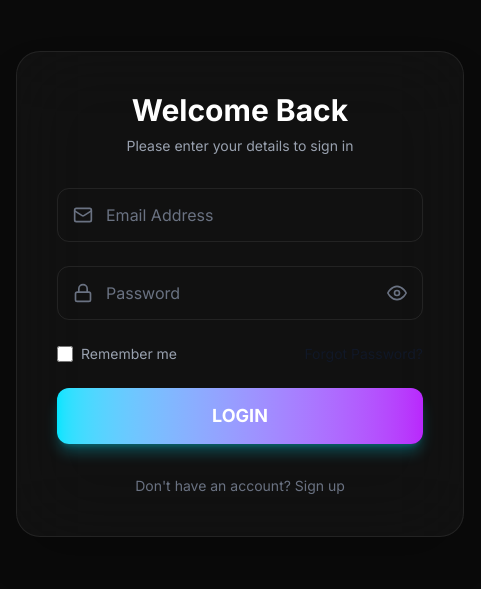
Test: LoginForm › shows error message on failed login
The image size is (481, 589).
In the field with placeholder "Email Address": (240, 215) [57, 188, 423, 242], type "wrong@example.com"
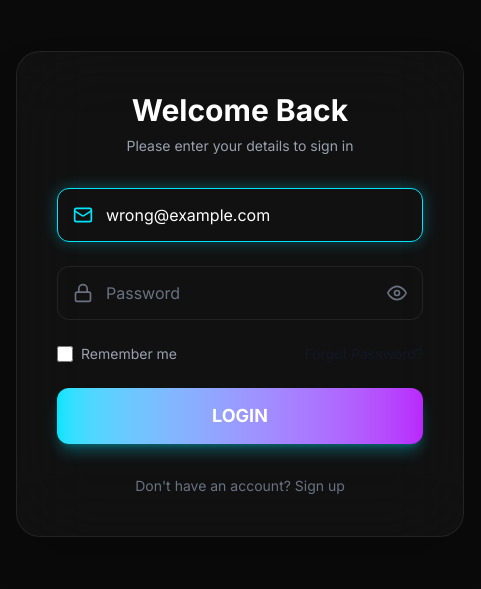
In the password field with placeholder "Password": (240, 293) [57, 266, 423, 320], type "wrongpassword"
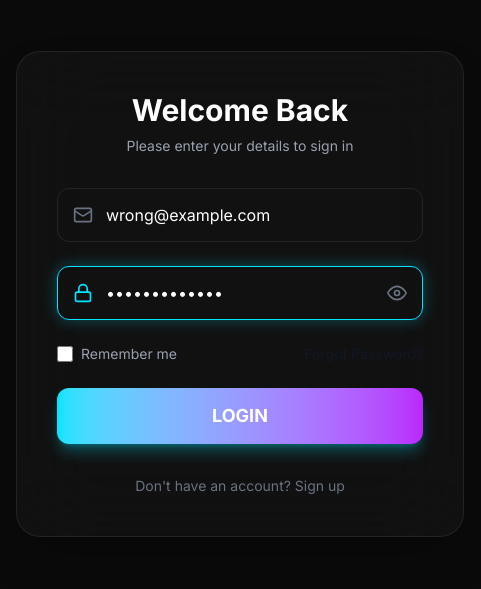
Click the button "LOGIN": (240, 416) [57, 388, 423, 444]
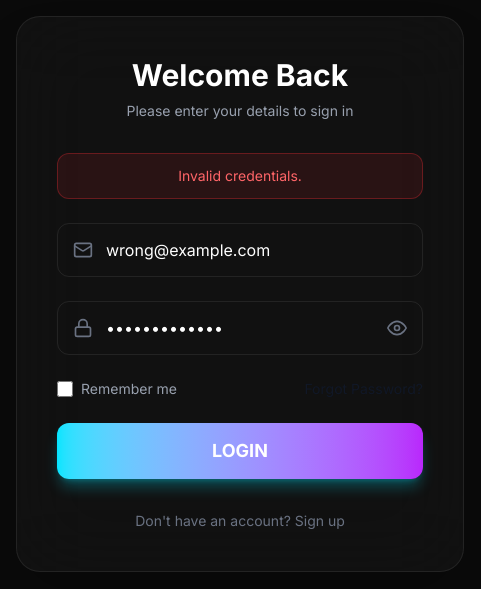
Now the text "Invalid credentials." is shown, box [57, 153, 423, 199]
